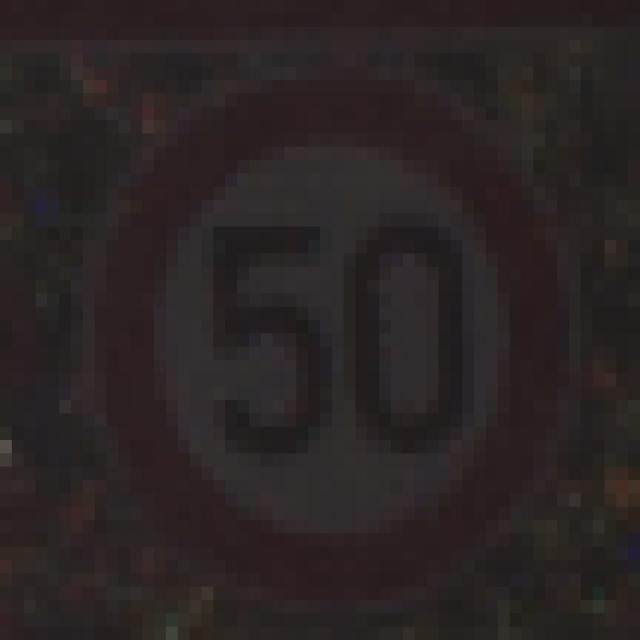Ograniczenie predkosci do 50: (104, 84, 568, 591)
